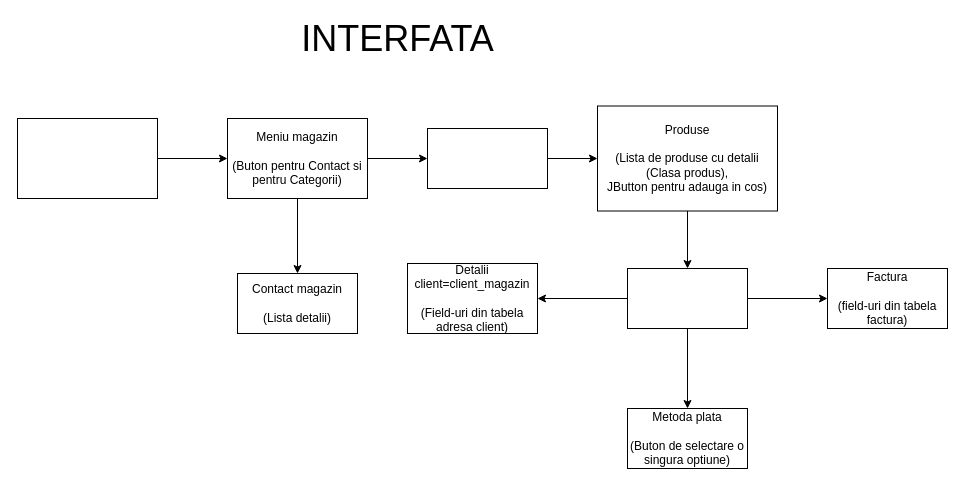
Some shapes in this 965 by 486 pixel diagram are drawn without their labels. Each missing label, with the centre of its shape:
Accesare adresa url magazin (JLabel, JTextField,JButton): (x=87, y=158)
Categorii produse (Lista de categorii): (x=487, y=158)
Detalii comanda (Jlabel-uri si JTextField-uri): (x=687, y=298)
